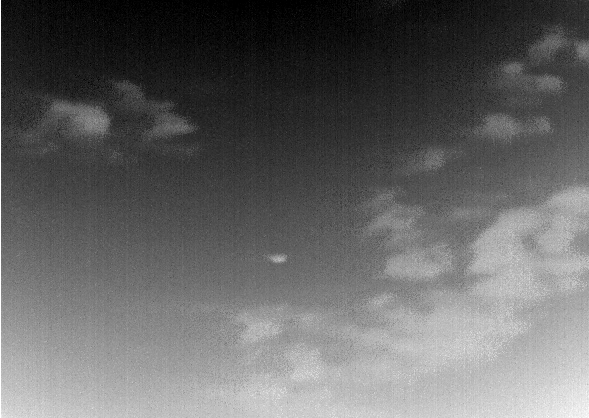dim target: (266, 252, 289, 265)
